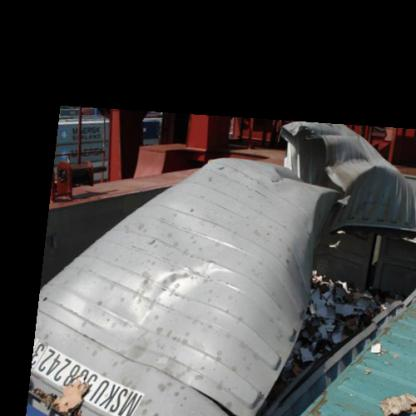Damage: (238, 242, 406, 398), (29, 352, 132, 412)
